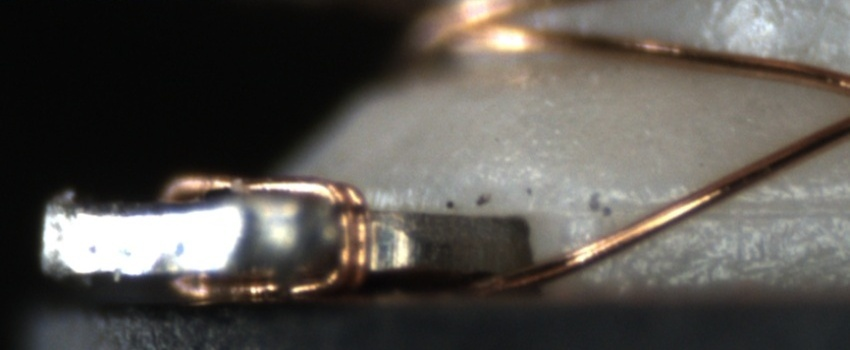DL: (582, 177, 848, 241)
TE: (160, 167, 370, 306)
